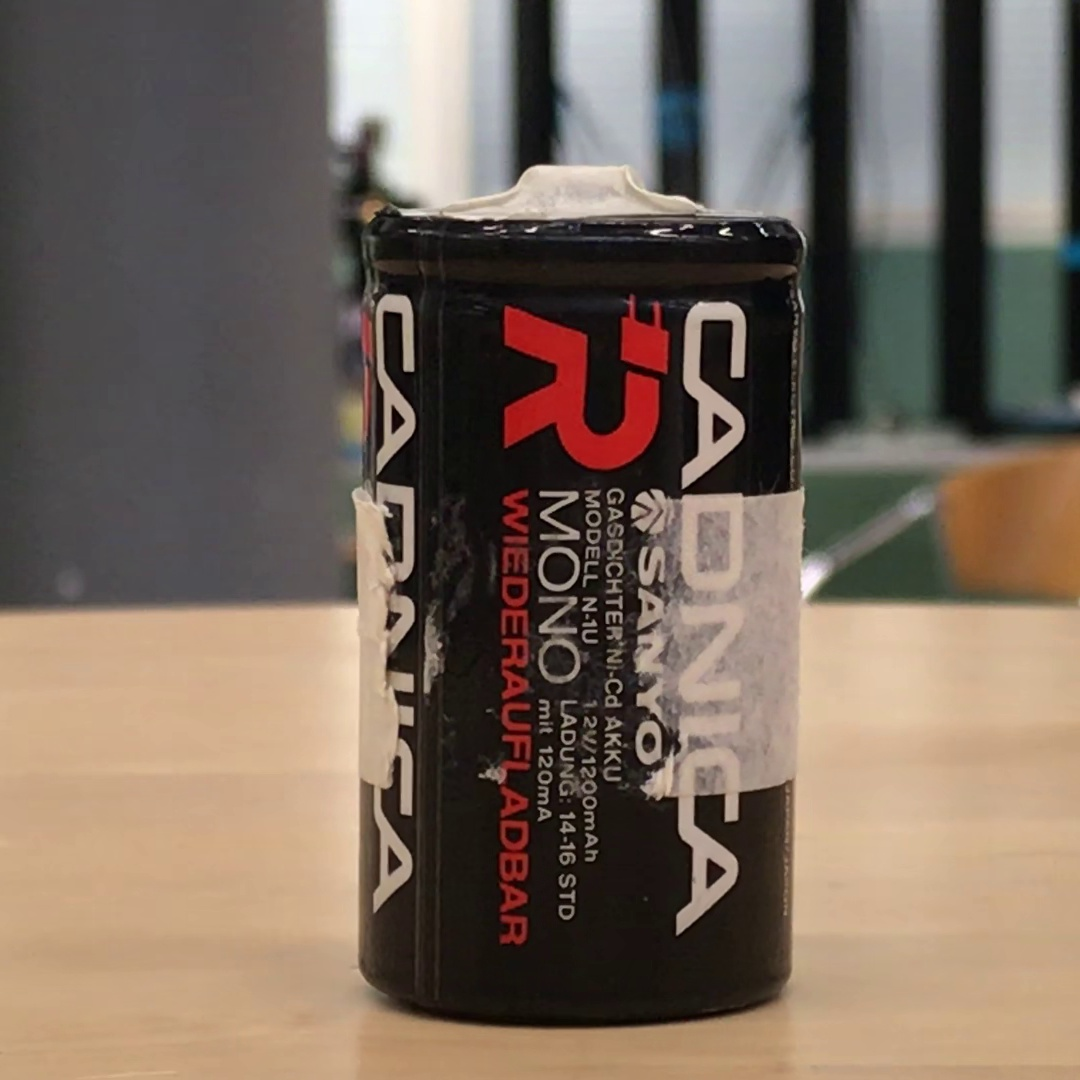keyword: (598, 633, 632, 703)
